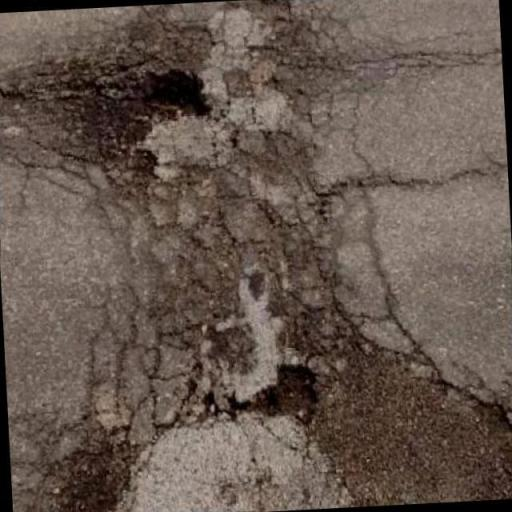pothole: (231, 364, 317, 426), (143, 69, 211, 120)
